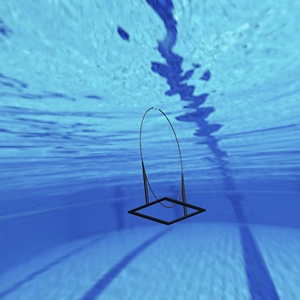circle: (125, 105, 206, 225)
